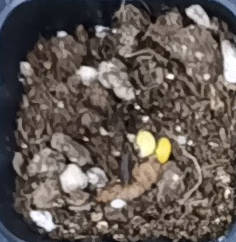pepper seed: (66, 53, 236, 217), (57, 50, 213, 210)
